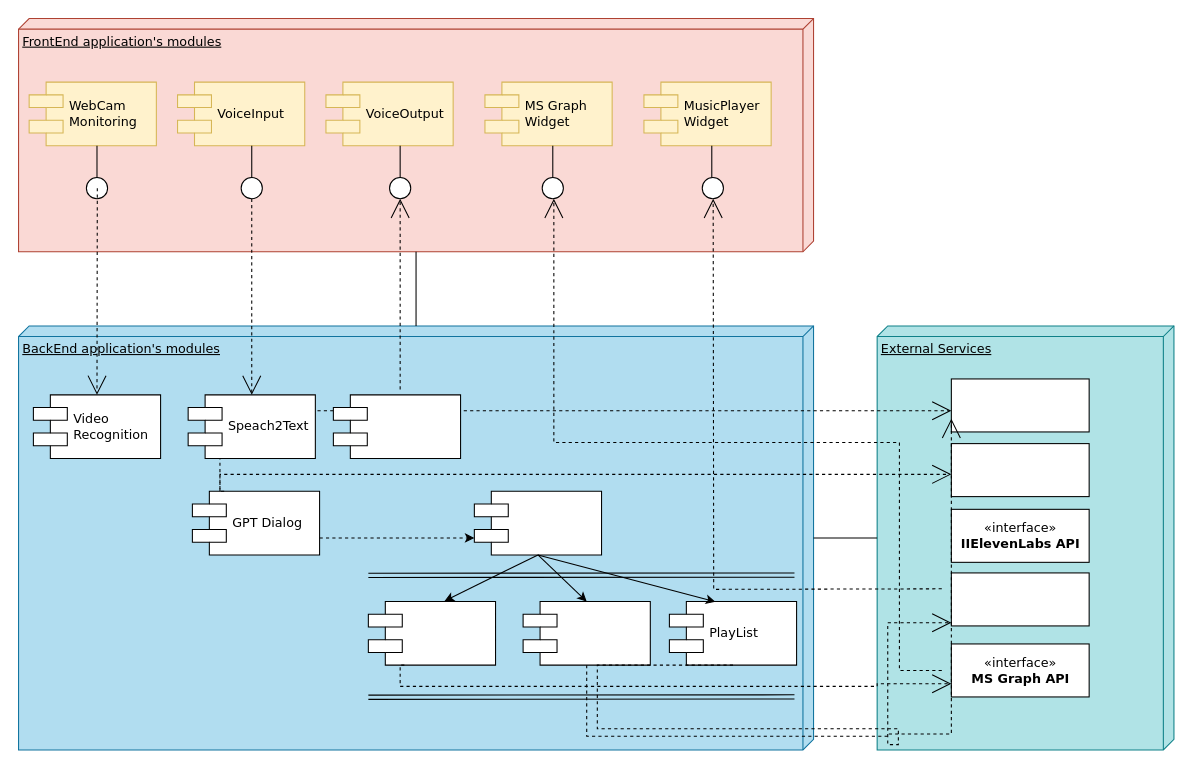
The diagram is 1192 pixels wide and 782 high, and some of its shapes have lost their labels. Each missing label, with the centre of its shape:
"Action Dispatcher" goes at point 537,522.
"Game Engine" goes at point 586,632.
"Office (mail) module" goes at point 431,632.
"Text2Speach" goes at point 396,426.
"«interface» GPT API" goes at point 1019,405.
"«interface» Spotify API" goes at point 1019,599.
"«interface» Whisper API" goes at point 1019,470.
